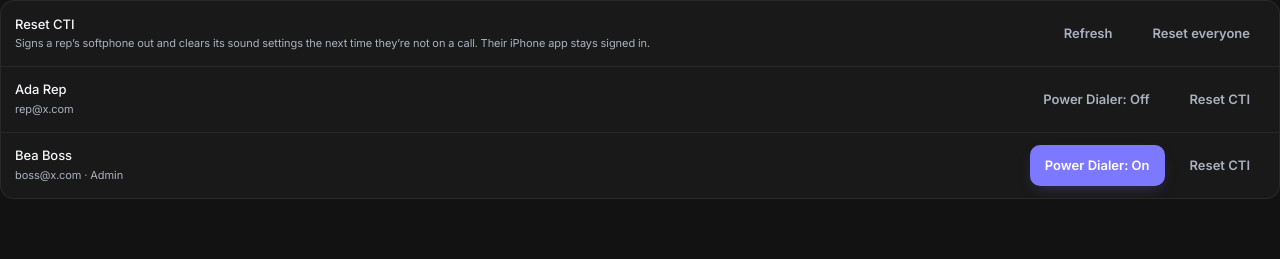
Test case: TeamPanel — Reset CTI › a failed reset says so and shows no status
The width and height of the screenshot is (1280, 259).
Click the button with aria-label "Reset CTI for Ada Rep" at point(1220, 99), box [1174,79,1265,120]
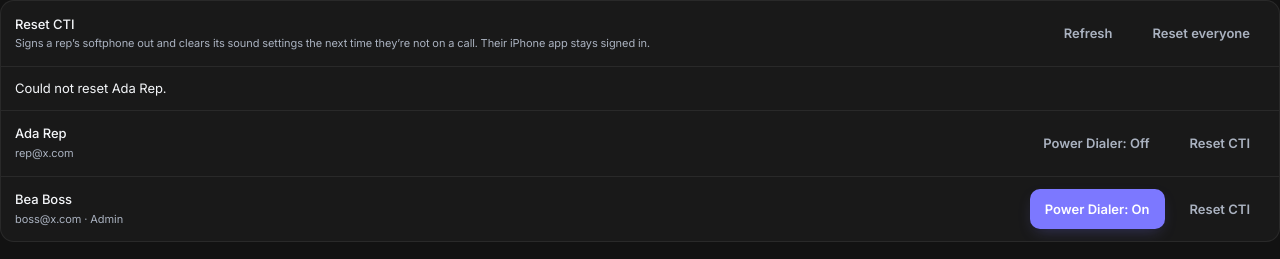
Result: the text "Could not reset Ada Rep." is shown at [15,79,166,98]
